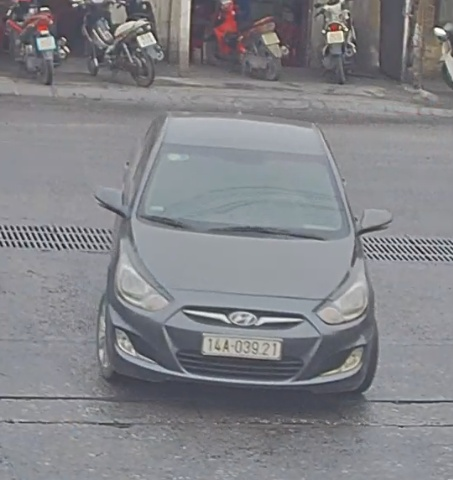vehicle plate: (197, 323, 292, 365)
